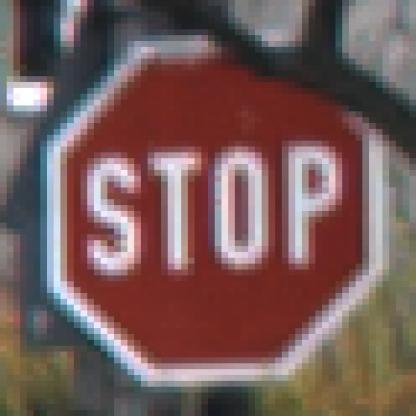stop: (38, 36, 397, 388)
